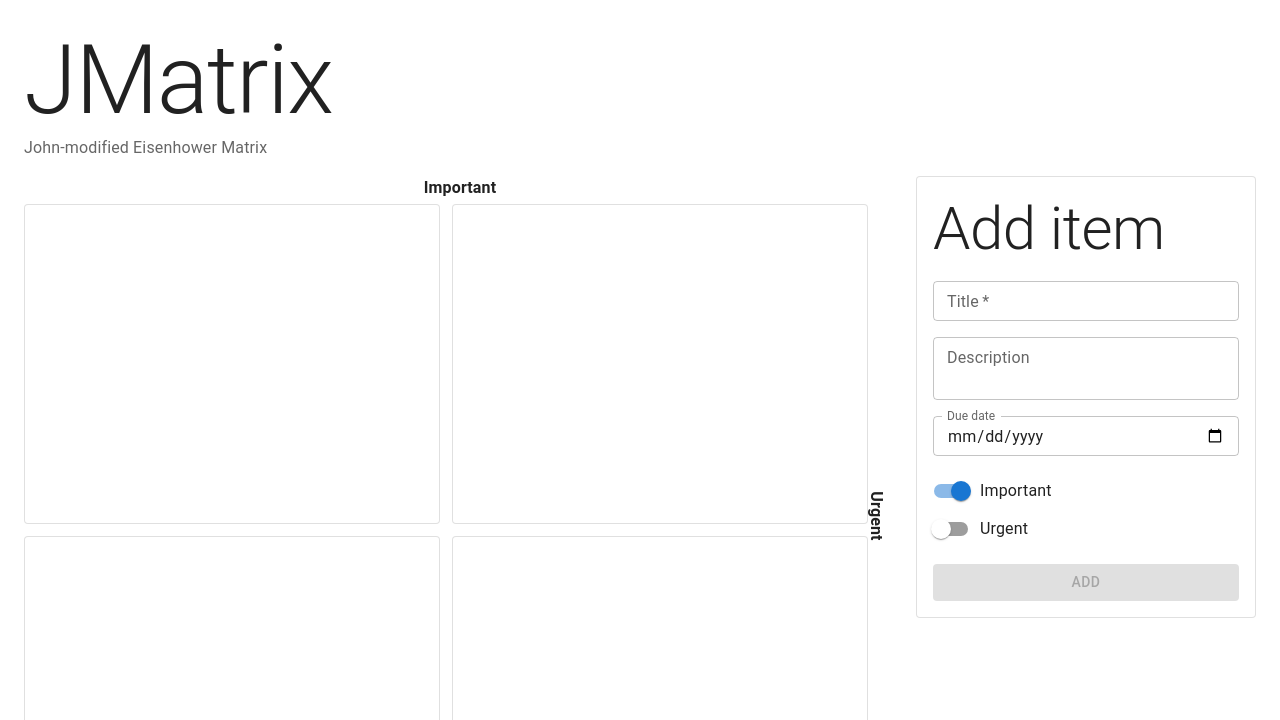
Test: JMatrix MVP › only shows due time after a due date is selected
Expected: the field labelled "Due time" is not shown
Type "2026-06-24" into the date field labelled "Due date" at (1086, 436), box [933,416,1239,456]
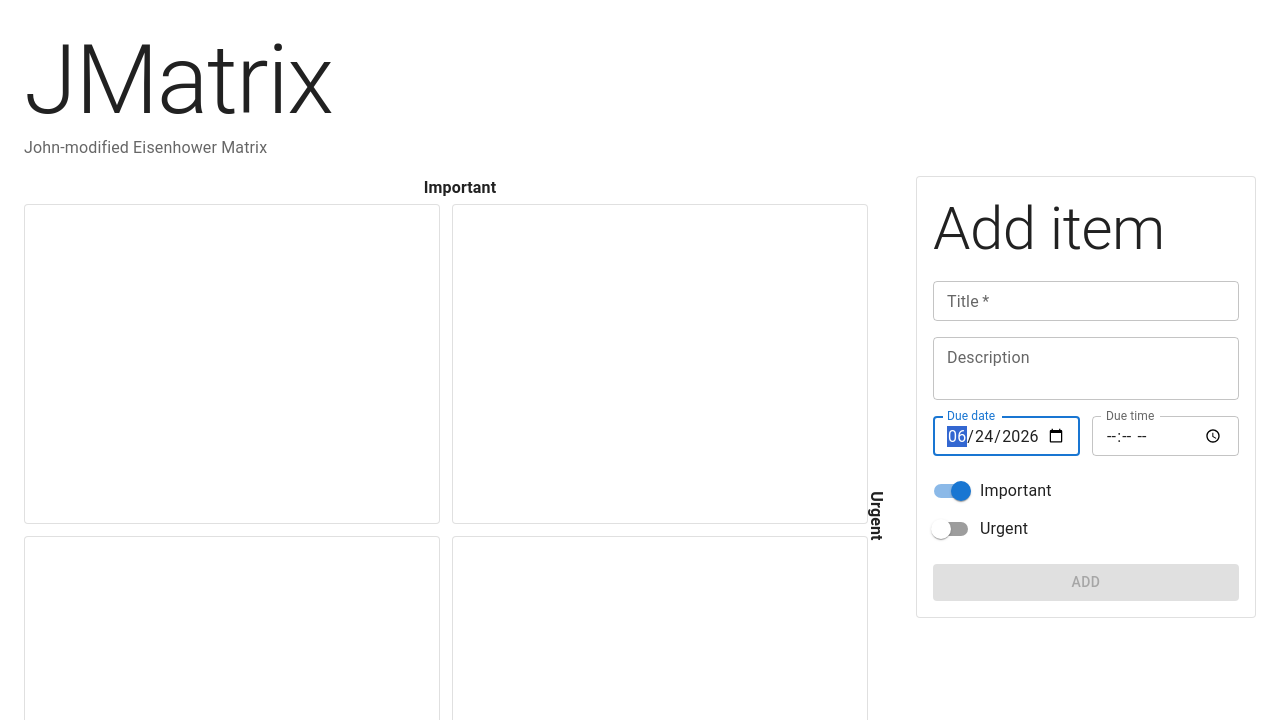
Now the time field labelled "Due time" is shown, box [1092,416,1239,456]
